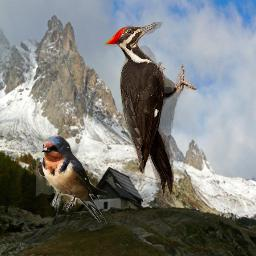Swallow: (36, 135, 107, 225)
Woodpecker: (104, 22, 197, 197)
